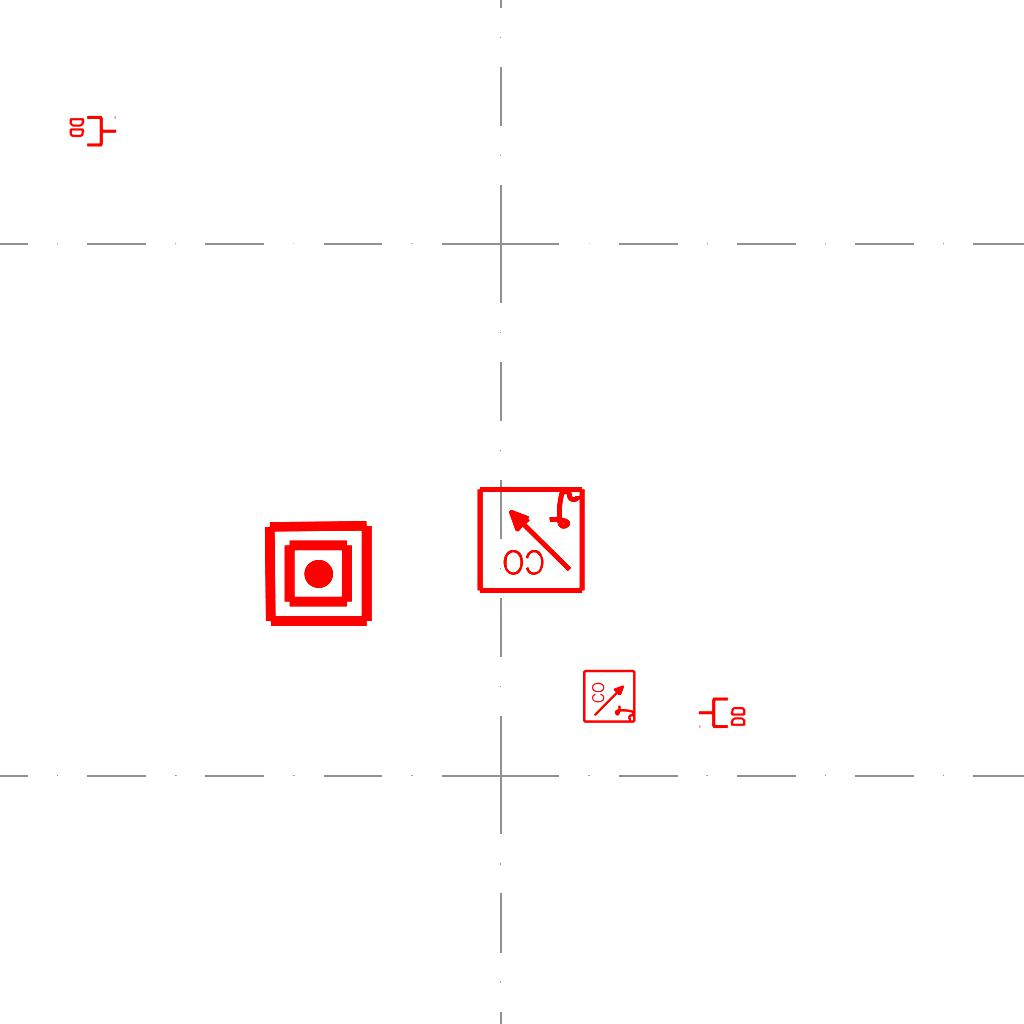Datenanschluss_zweifach: (67, 115, 118, 149), (697, 695, 748, 729)
NAM-Nichtautomatischer_Melder: (262, 517, 375, 630)
ROA_Rauchmelder_optisch_mit_Signalgeber_(Sockelsirene): (474, 482, 587, 595), (582, 668, 638, 724)
